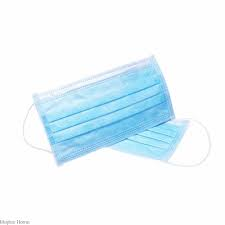mask: (40, 64, 175, 135)
